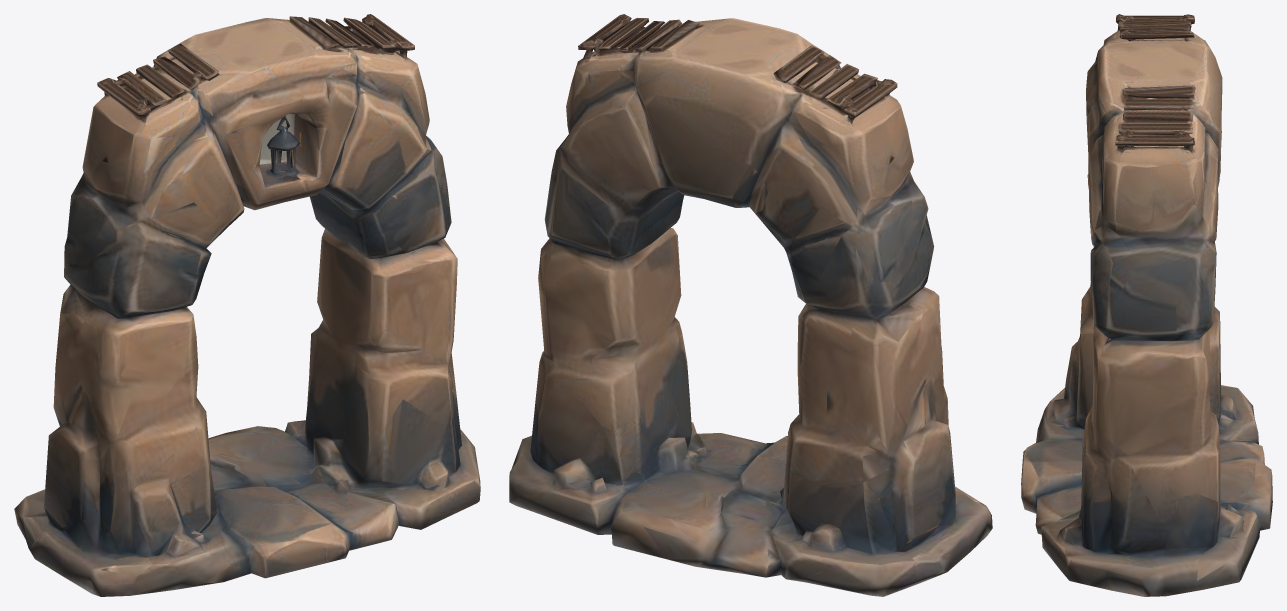
The model's file is repere-arche.glb.
3 views of the same model, side by side, from view 1: azimuth 30°, elevation 25°; view 2: azimuth 150°, elevation 25°; view 3: azimuth 270°, elevation 25° (orthographic). The views are drawn at different scales.
Parts seen in each view (by area): view 1: repere-arche; view 2: repere-arche; view 3: repere-arche.
Part boxes in pixels (x1=…): repere-arche: x1=14, y1=14, x2=480, y2=596; repere-arche: x1=509, y1=14, x2=992, y2=596; repere-arche: x1=1021, y1=14, x2=1272, y2=596.
Size of the model in its own units: 1.82 by 1.9 by 0.982.
1 material, 1 textured.
